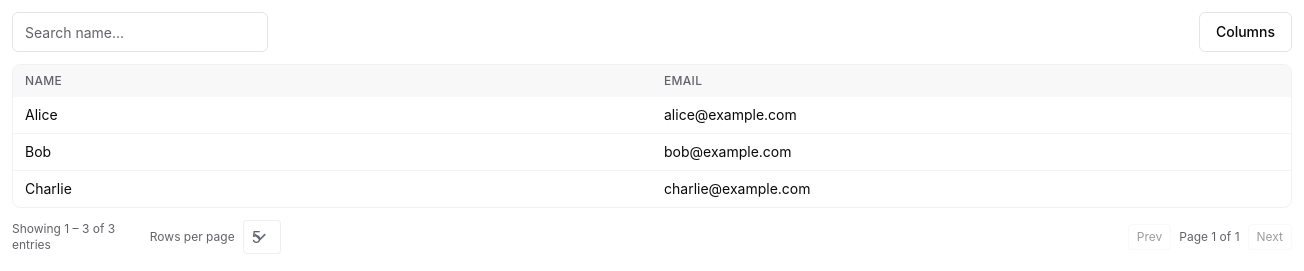
Test: DataTable › filters results by the search input
The image size is (1304, 271).
Expected: the text "Alice" is shown, [13, 97, 652, 134]
Expected: the text "Bob" is shown, [13, 134, 652, 170]
Type "Bob" into the field with placeholder "Search name..." at (140,32), box [12, 12, 268, 52]
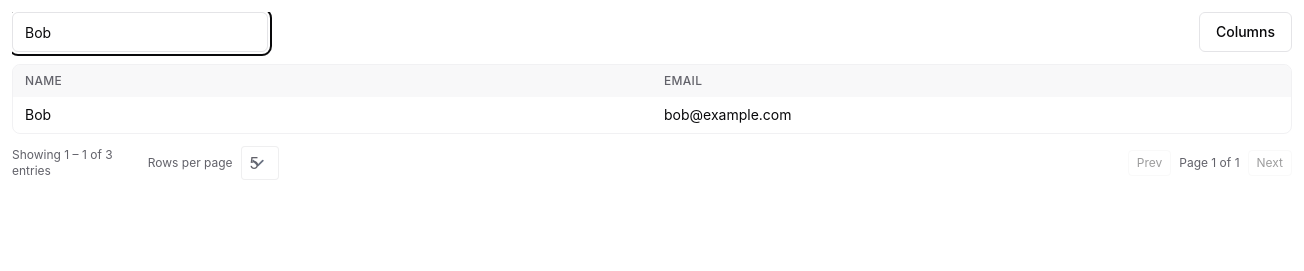
Expected: the text "Bob" is shown, [13, 97, 652, 133]
Expected: the text "Alice" is gone
